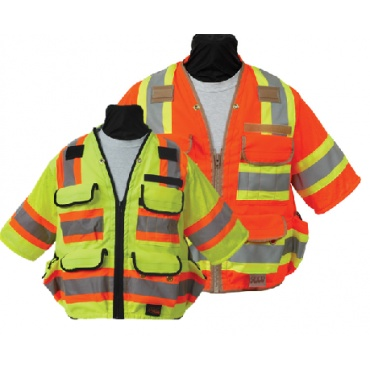safety vest: (127, 64, 320, 289), (34, 127, 196, 326)
